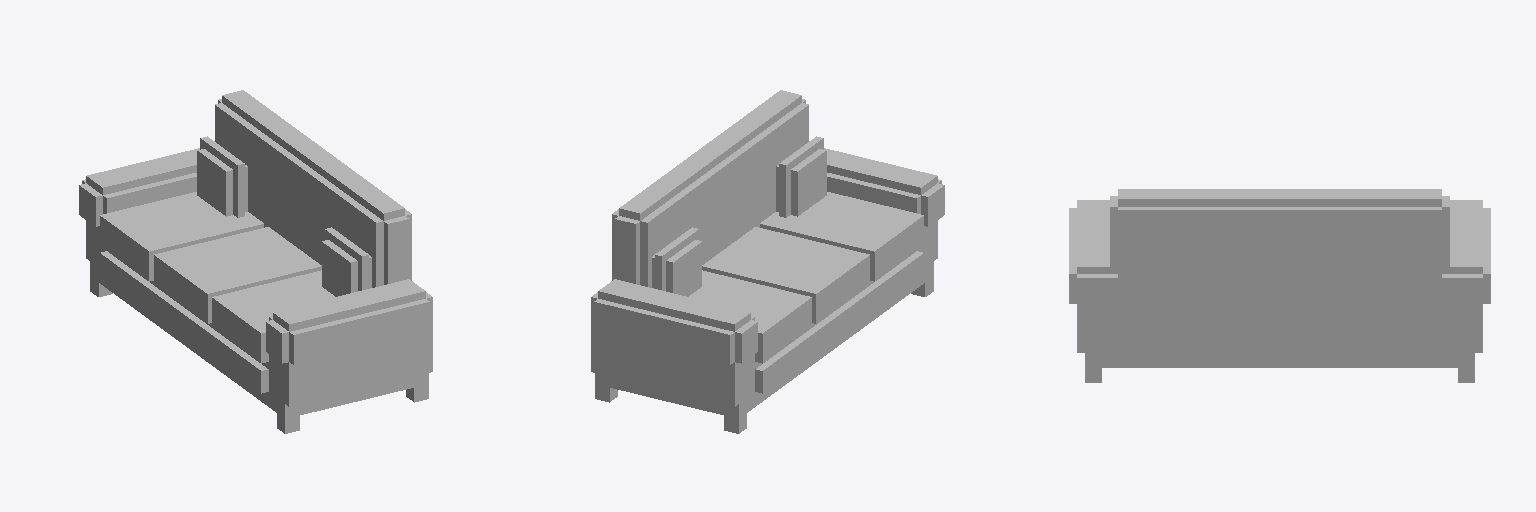
Rendered from Couch.obj.
3 renders of one model, left to right at view 1: azimuth 30°, elevation 25°; view 2: azimuth 150°, elevation 25°; view 3: azimuth 270°, elevation 25°, orthographic.
Visible parts, largest first — view 1: object 1; view 2: object 1; view 3: object 1.
Boxes of the visible parts, box(x1,y1,x2,y2) form: object 1: box(79, 90, 432, 433); object 1: box(591, 90, 944, 433); object 1: box(1069, 189, 1490, 382).
Size of the model in its own units: 4.2 by 4.8 by 10.2.